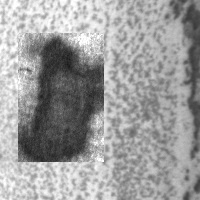patches: (18, 33, 104, 162), (170, 1, 198, 66)
pitted_surface: (1, 1, 179, 195)
